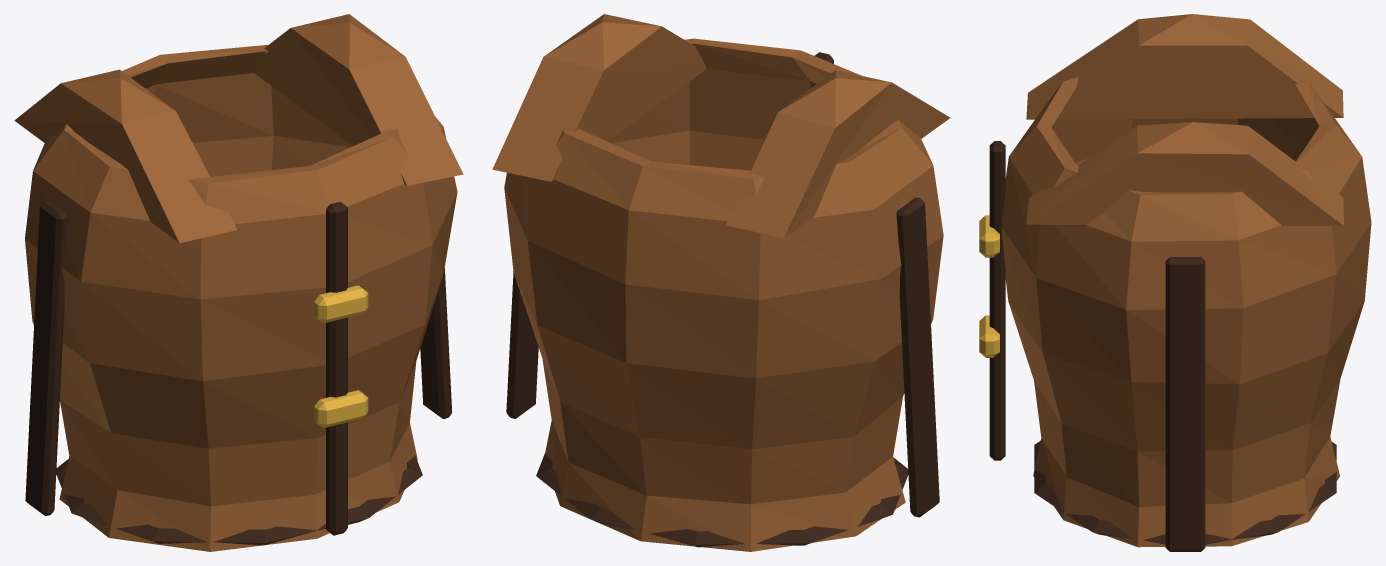
The model's file is Item_LeatherVest.glb.
The picture shows the model from 3 angles, left to right: view 1: azimuth 30°, elevation 25°; view 2: azimuth 150°, elevation 25°; view 3: azimuth 270°, elevation 25°; orthographic projection. The views are drawn at different scales.
Parts seen in each view (by area): view 1: Item_LeatherVest; view 2: Item_LeatherVest; view 3: Item_LeatherVest.
Part boxes in pixels (x1=…): Item_LeatherVest: x1=14, y1=14, x2=463, y2=551; Item_LeatherVest: x1=492, y1=14, x2=950, y2=551; Item_LeatherVest: x1=979, y1=14, x2=1371, y2=551.
Bounding box in the file's own units: 0.5743 × 0.5735 × 0.4966.
